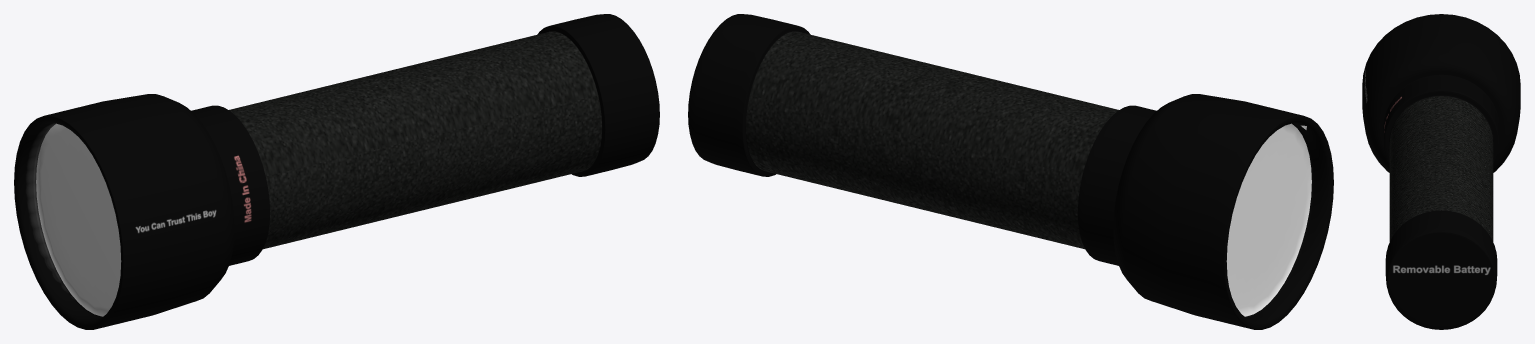
Rendered from lowpoly_flashlight__lanterna.glb.
The picture shows the model from 3 angles, left to right: view 1: azimuth 30°, elevation 25°; view 2: azimuth 150°, elevation 25°; view 3: azimuth 270°, elevation 25°; orthographic projection. The views are drawn at different scales.
Visible parts, largest first — view 1: pasted__pCylinder1; view 2: pasted__pCylinder1; view 3: pasted__pCylinder1.
Boxes of the visible parts, left/top/right/bottom form: pasted__pCylinder1: left=14, top=14, right=659, bottom=329; pasted__pCylinder1: left=688, top=14, right=1333, bottom=329; pasted__pCylinder1: left=1362, top=14, right=1520, bottom=329.
Size of the model in its own units: 0.2189 by 0.0752 by 0.0752.
Materials: 3 (2 with a texture image).
